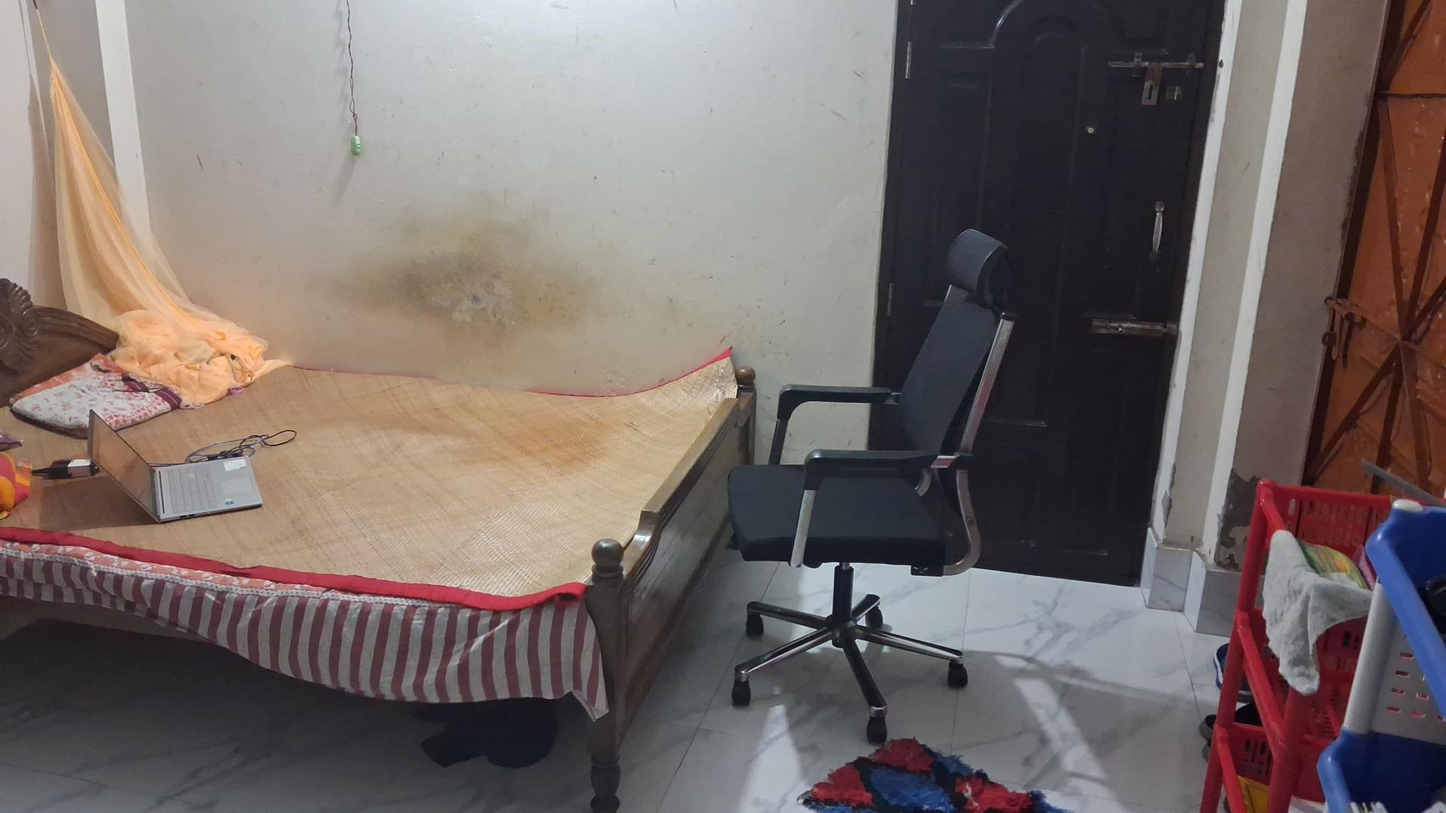Chair: (727, 229, 1017, 744)
Floor Mat: (785, 731, 1072, 810)
Laptop: (79, 403, 279, 536)
Rack: (1204, 470, 1418, 813)
